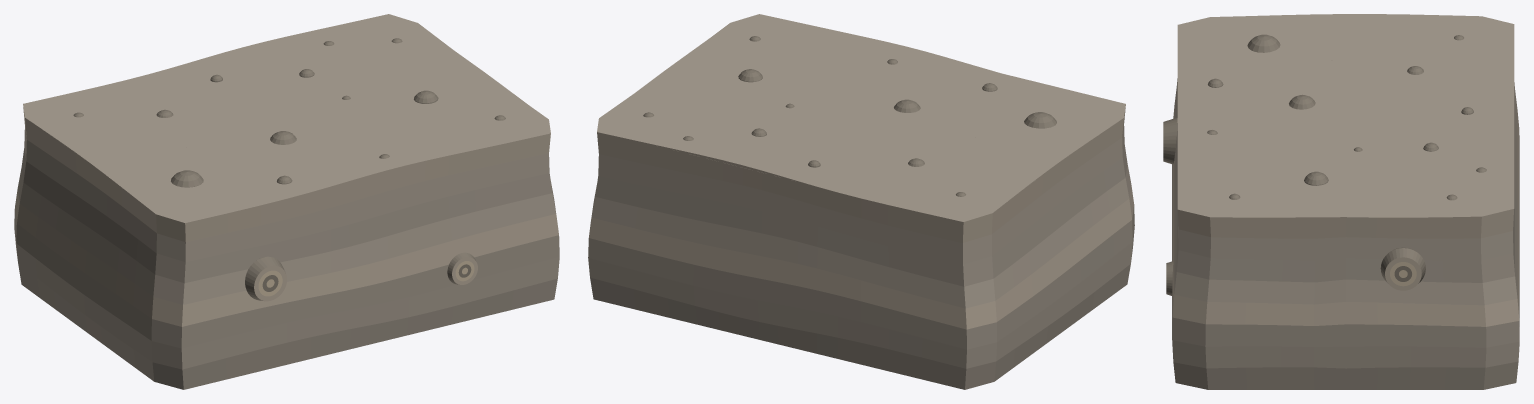
File: accretionary-lapilli-bed.glb
The picture shows the model from 3 angles, left to right: view 1: azimuth 30°, elevation 25°; view 2: azimuth 150°, elevation 25°; view 3: azimuth 270°, elevation 25°; orthographic projection. The views are drawn at different scales.
Visible parts, largest first — view 1: continuous-layered-ash-matrix, three-volume-backed-exposed-ash-sections, embedded-rounded-ash-aggregates; view 2: continuous-layered-ash-matrix, embedded-rounded-ash-aggregates; view 3: continuous-layered-ash-matrix, three-volume-backed-exposed-ash-sections, embedded-rounded-ash-aggregates.
Boxes of the visible parts, box(x1,y1,x2,y2) form: continuous-layered-ash-matrix: box(14, 14, 559, 389); three-volume-backed-exposed-ash-sections: box(245, 252, 477, 301); embedded-rounded-ash-aggregates: box(73, 38, 505, 187); continuous-layered-ash-matrix: box(588, 14, 1134, 389); embedded-rounded-ash-aggregates: box(643, 36, 1056, 196); continuous-layered-ash-matrix: box(1172, 14, 1519, 389); three-volume-backed-exposed-ash-sections: box(1163, 117, 1425, 295); embedded-rounded-ash-aggregates: box(1207, 34, 1486, 200).
Size of the model in its own units: 0.2845 by 0.1156 by 0.2051.
